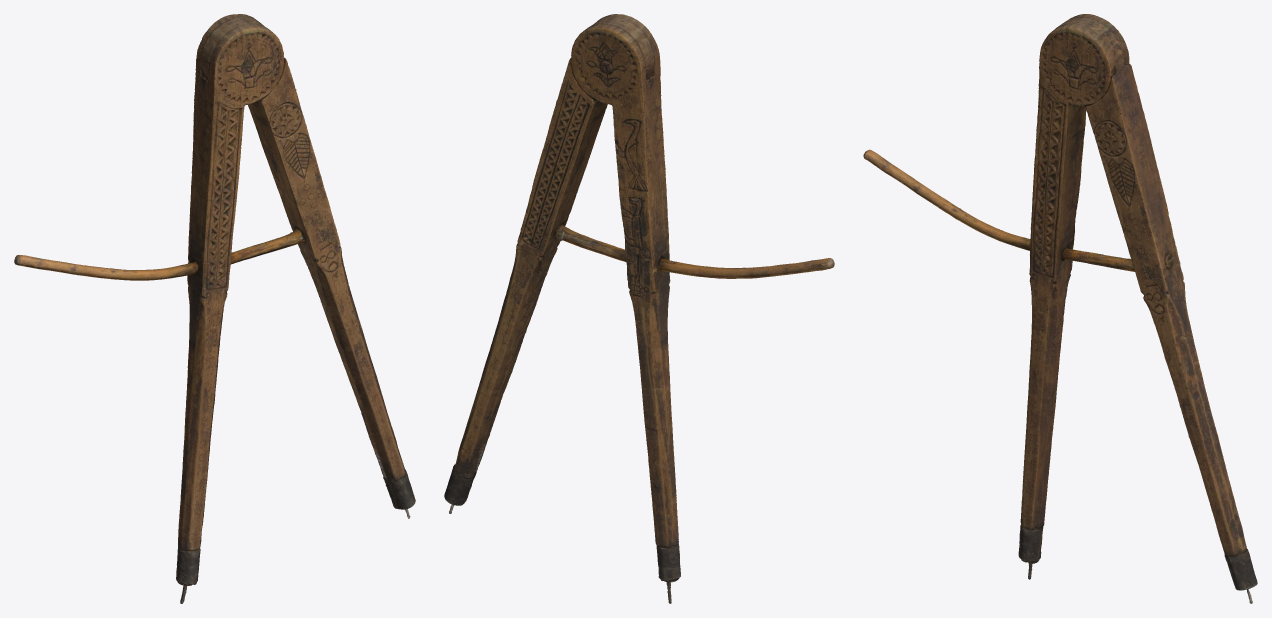
The model's file is woodworking_compass-optimized.glb.
3 renders of one model, left to right at view 1: azimuth 30°, elevation 25°; view 2: azimuth 150°, elevation 25°; view 3: azimuth 330°, elevation 25°, orthographic.
Parts seen in each view (by area): view 1: Object_4, Object_2, Object_6, Object_3, Object_5; view 2: Object_2, Object_4, Object_5, Object_6, Object_3; view 3: Object_2, Object_4, Object_3, Object_6, Object_5.
Part boxes in pixels (bbox=[...]): Object_4: bbox=[111, 66, 415, 554]; Object_2: bbox=[206, 28, 412, 509]; Object_6: bbox=[97, 14, 377, 601]; Object_3: bbox=[14, 86, 415, 507]; Object_5: bbox=[96, 93, 377, 603]; Object_2: bbox=[458, 28, 643, 455]; Object_4: bbox=[444, 57, 748, 520]; Object_5: bbox=[482, 95, 756, 603]; Object_6: bbox=[482, 14, 753, 602]; Object_3: bbox=[445, 77, 834, 505]; Object_2: bbox=[1039, 28, 1244, 590]; Object_4: bbox=[969, 63, 1257, 603]; Object_3: bbox=[863, 92, 1257, 590]; Object_6: bbox=[940, 14, 1213, 579]; Object_5: bbox=[942, 91, 1213, 579].
Bounding box in the file's own units: 37.83 × 52.27 × 3.51.
1 material, 1 textured.
